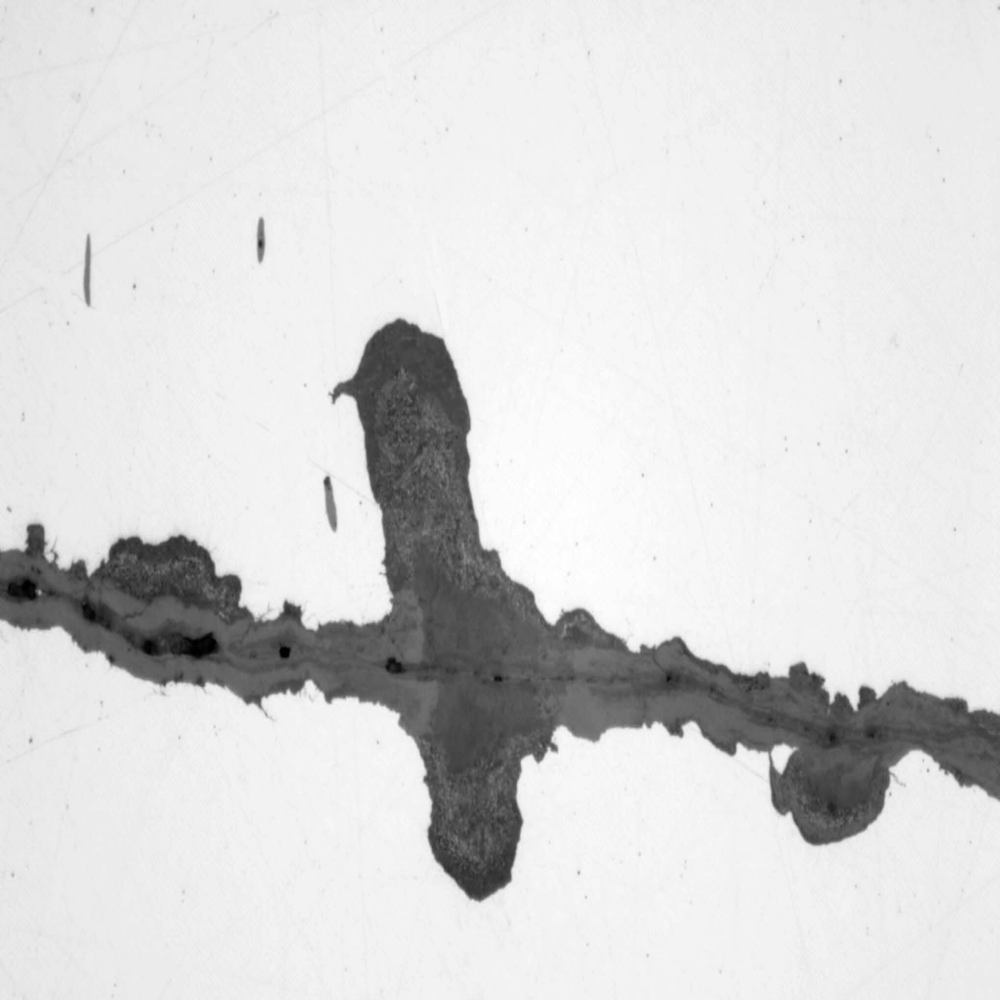crack: (1, 283, 989, 902)
